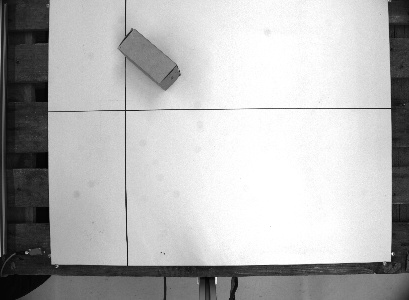b6: (114, 25, 181, 92)
